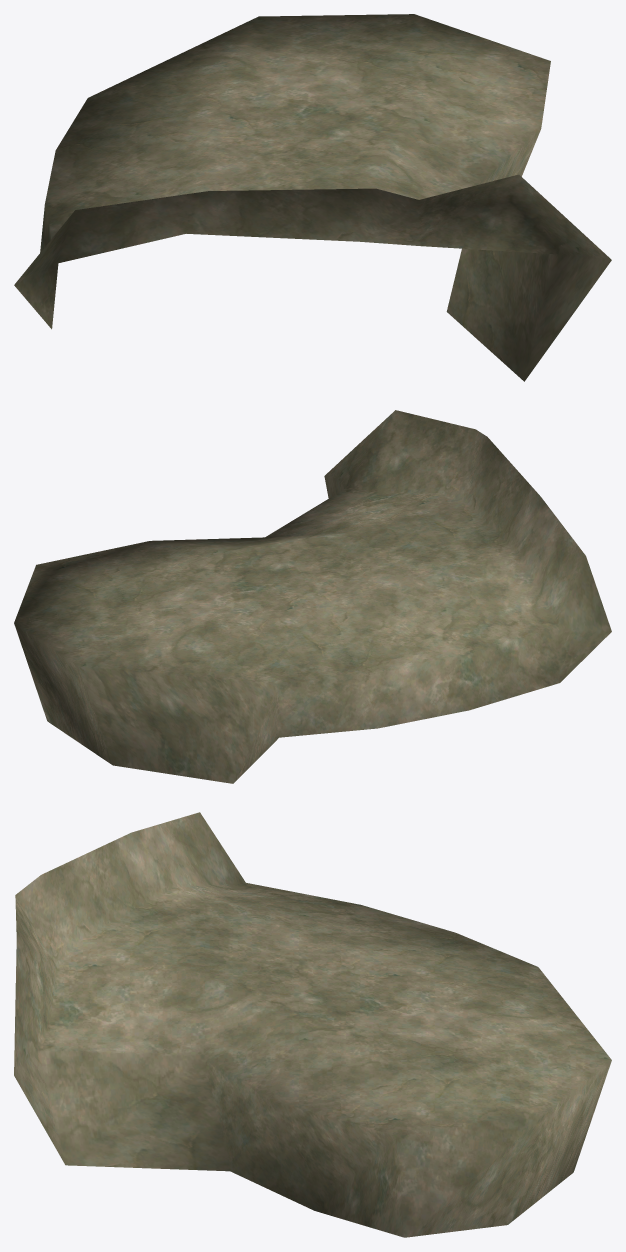
Rendered from EKH_THRONE_PS_TH_ROCK_PLATFORM_237.fbx.
3 renders of one model, top to bottom at view 1: azimuth 30°, elevation 25°; view 2: azimuth 150°, elevation 25°; view 3: azimuth 270°, elevation 25°, orthographic. The views are drawn at different scales.
Visible parts, largest first — view 1: EKH_THRONE_PS_TH_ROCK_PLATFORM_237; view 2: EKH_THRONE_PS_TH_ROCK_PLATFORM_237; view 3: EKH_THRONE_PS_TH_ROCK_PLATFORM_237.
Part boxes in pixels (x1,y1,x2,y2): EKH_THRONE_PS_TH_ROCK_PLATFORM_237: (14,14,611,381); EKH_THRONE_PS_TH_ROCK_PLATFORM_237: (14,410,611,783); EKH_THRONE_PS_TH_ROCK_PLATFORM_237: (14,812,611,1237).
Bounding box in the file's own units: 43849 × 16090 × 39802.
1 material, 1 textured.
